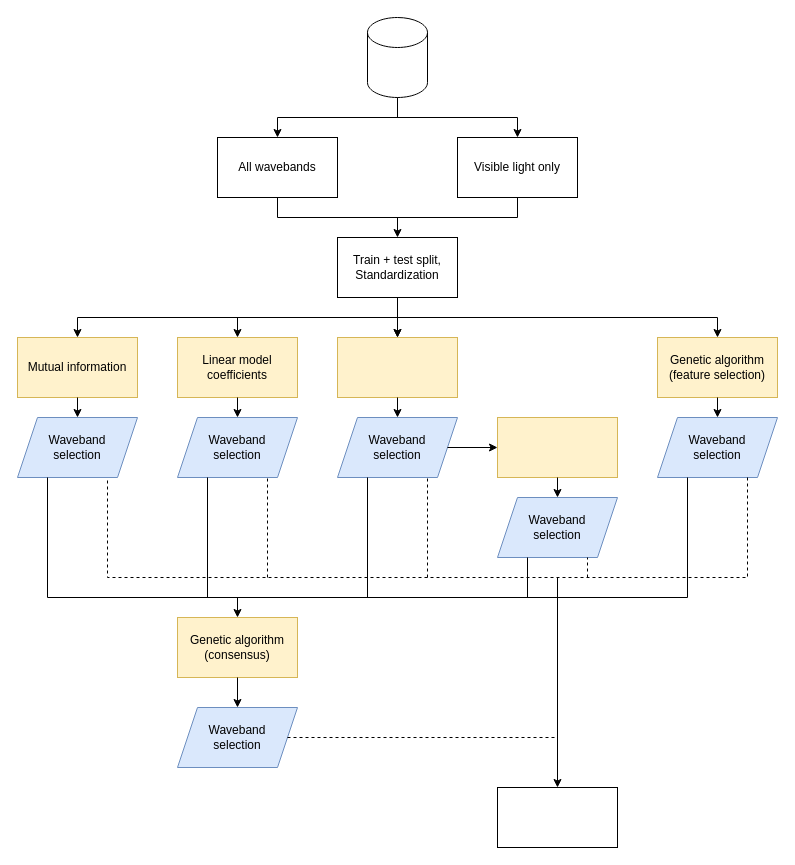
This 795x865 diagram has some shape labels left out. The centre of each missing label's shape, as x and y in pixels:
Data: the point at 397,57
Hierarchical clustering: the point at 397,367
Permutation importance: the point at 557,447
Validation model (elastic net) using selected wavebands: the point at 557,817
